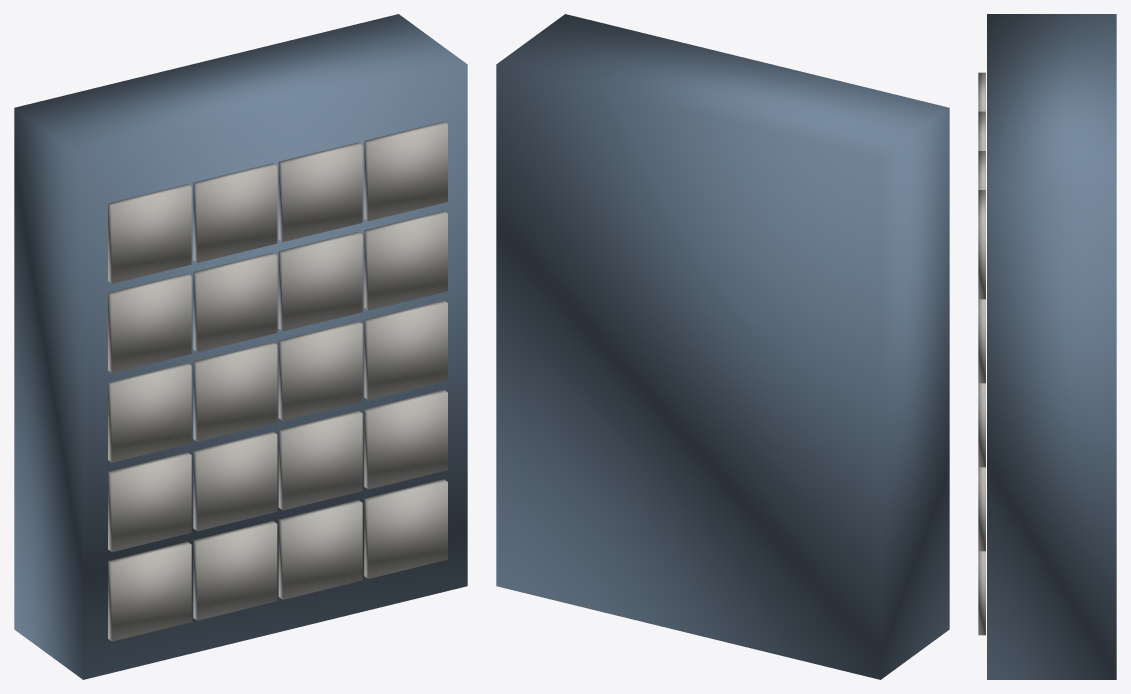
Rendered from parcel_locker.glb.
3 renders of one model, left to right at view 1: azimuth 30°, elevation 25°; view 2: azimuth 150°, elevation 25°; view 3: azimuth 270°, elevation 25°, orthographic. The views are drawn at different scales.
Visible parts, largest first — view 1: world; view 2: world; view 3: world.
Boxes of the visible parts, left/top/right/bottom form: world: left=14, top=14, right=467, bottom=679; world: left=496, top=14, right=949, bottom=679; world: left=978, top=14, right=1116, bottom=679.
Bounding box in the file's own units: 1.35 × 1.75 × 0.4475.
